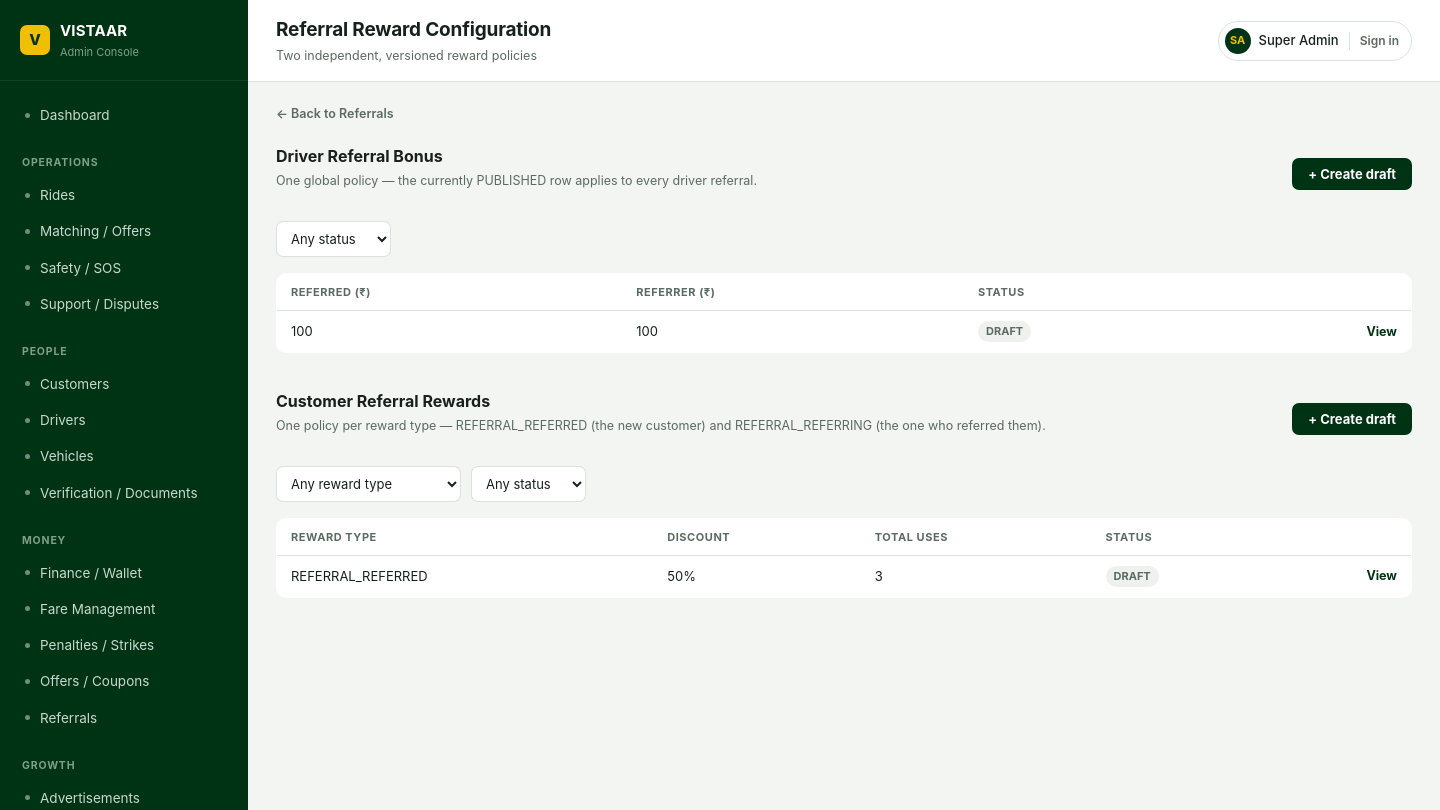
Test: RewardConfigPage › creates a driver-bonus draft with the entered amounts
Expected: the text "Driver Referral Bonus" is shown, [276,146,443,166]
Click the button "+ Create draft" in the row of "Driver Referral Bonus".
click(1352, 174)  # box [1292,158,1412,190]
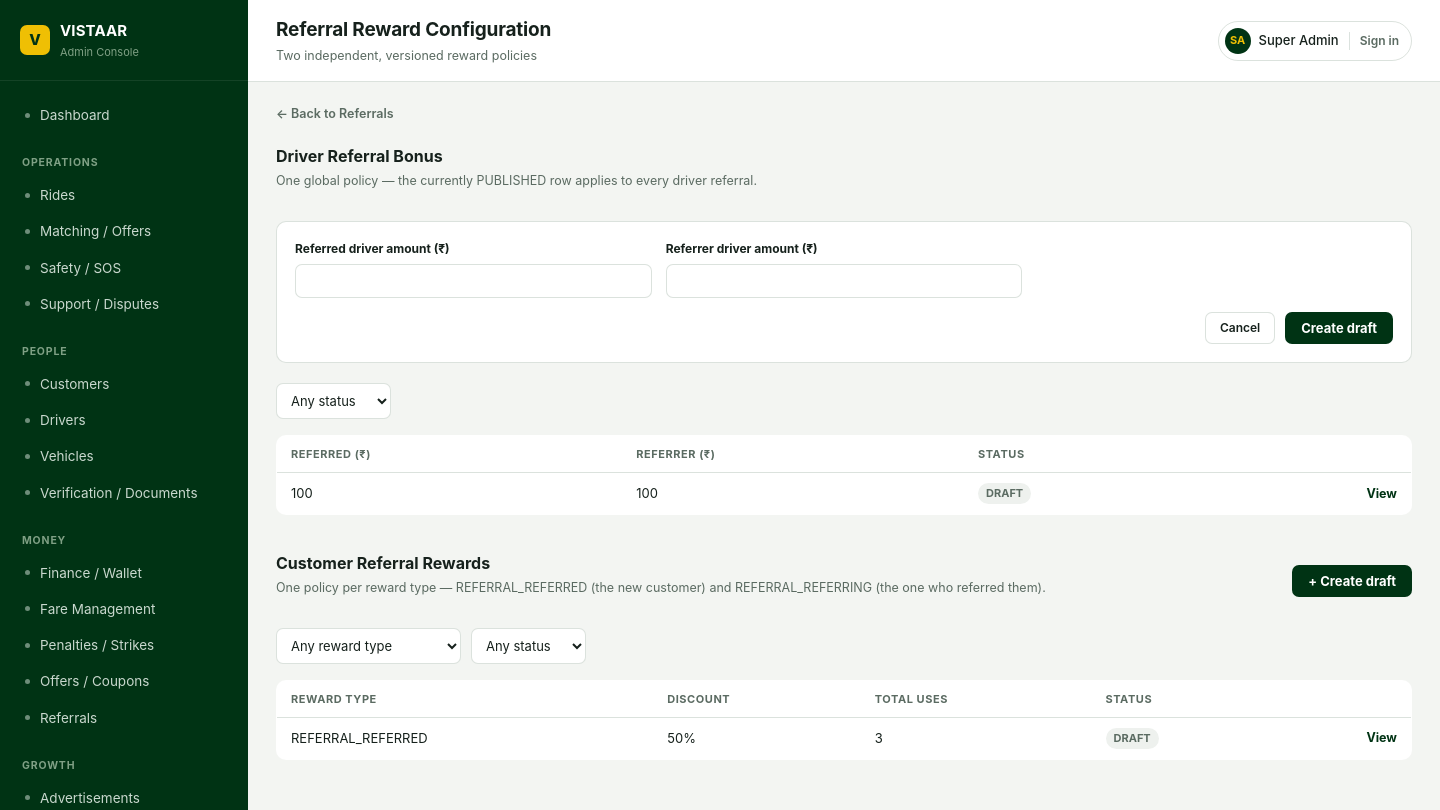
Type "100" into the number field labelled "Referred driver amount (₹)".
click(473, 281); type("100")  # box [295,264,652,298]
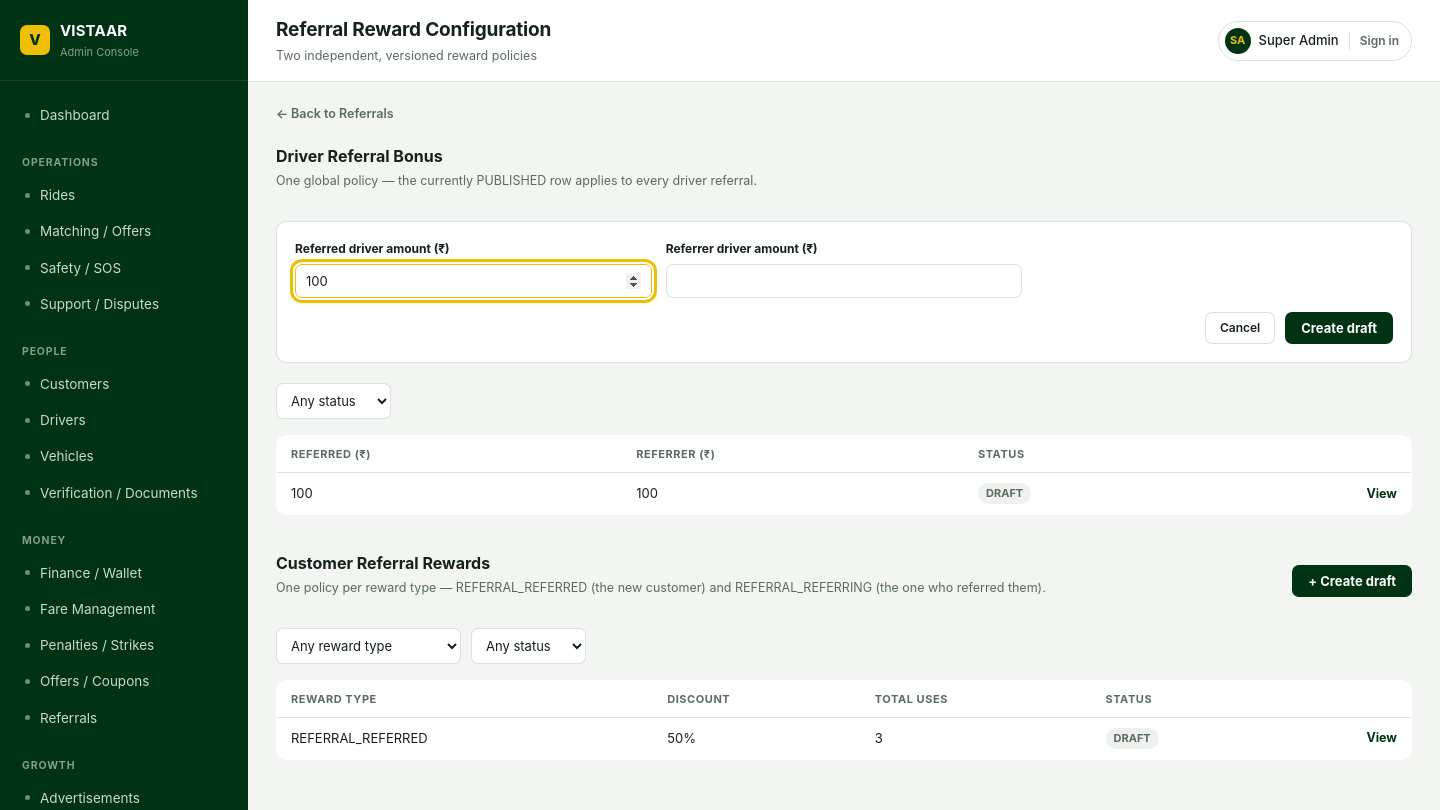
Type "100" into the number field labelled "Referrer driver amount (₹)".
click(844, 281); type("100")  # box [666,264,1022,298]
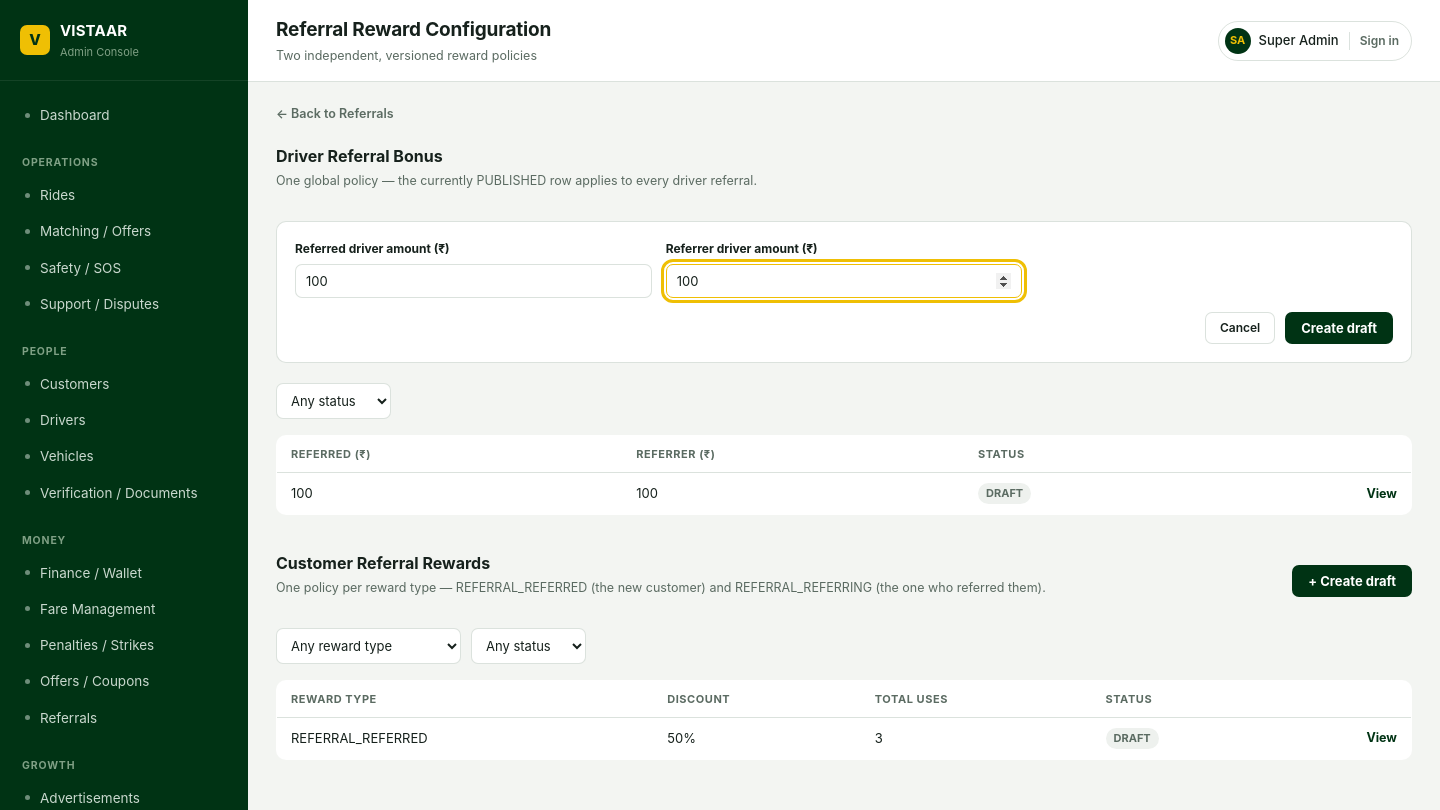
Click the button "Create draft".
click(1339, 328)  # box [1285,312,1393,344]
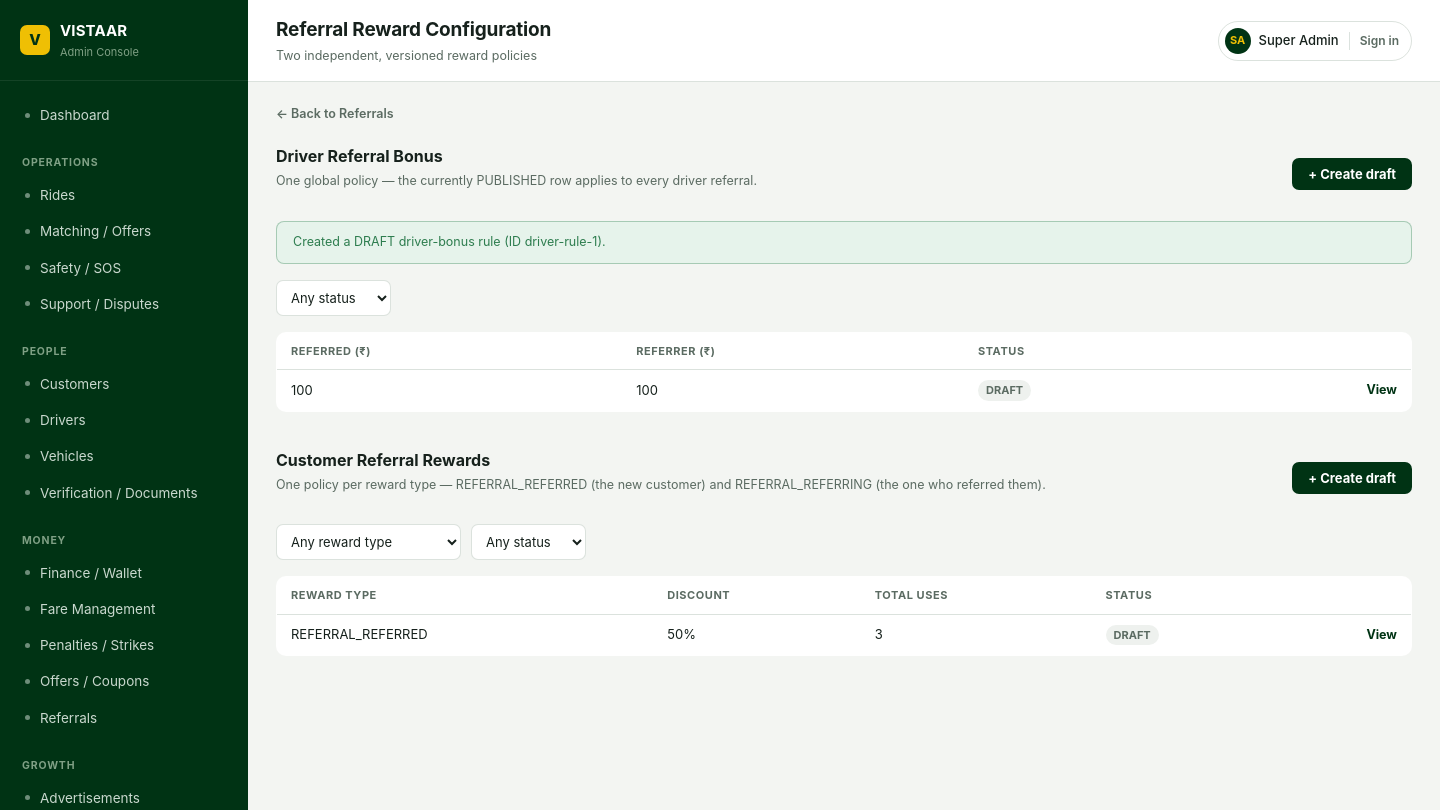
Expected: the text "Created a DRAFT driver-bonus rule (ID driver-rule-1)." is shown, [276,221,1412,264]
